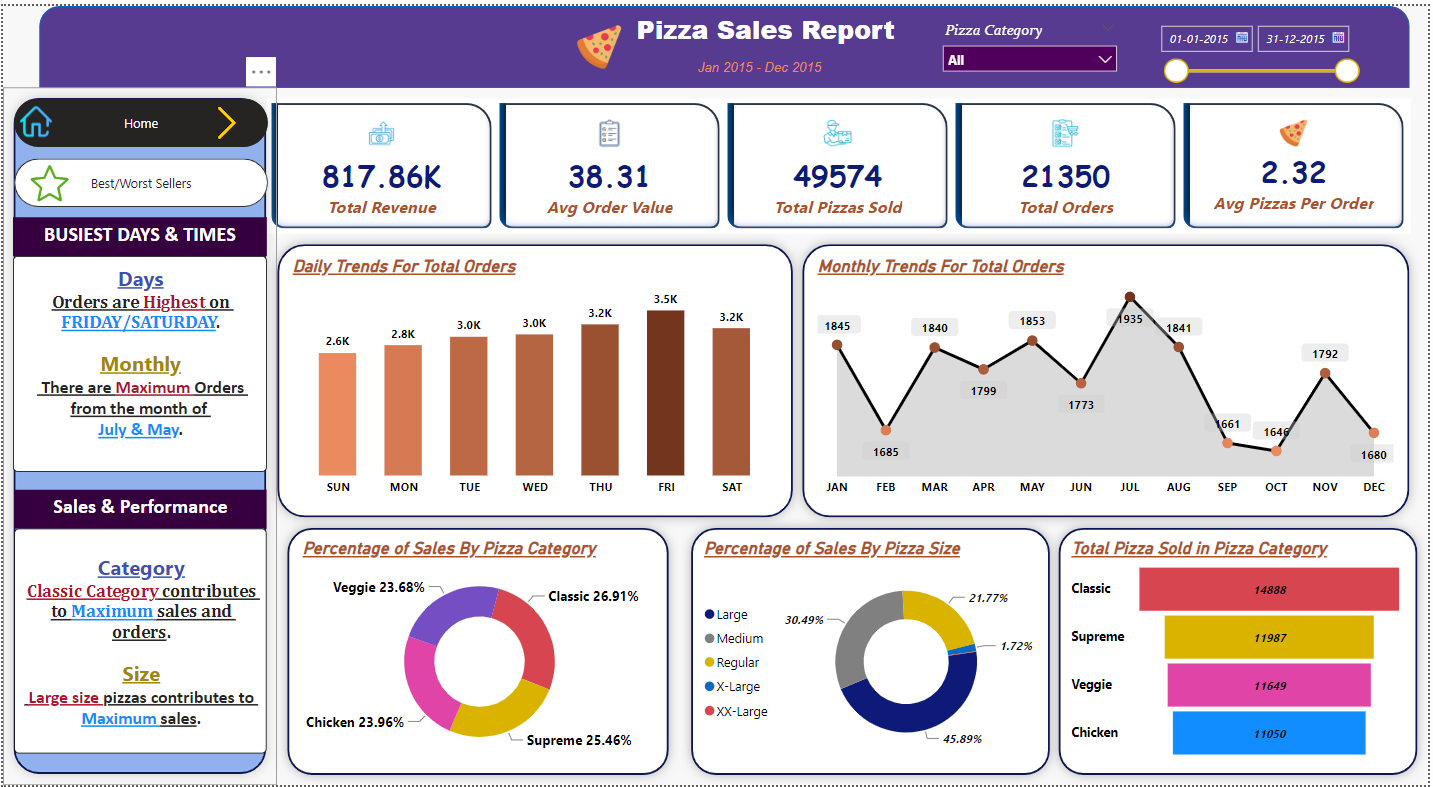

This screenshot's page, from the dashboard's own definition file:
{"tool":"powerbi","page":{"name":"Home","canvas":[1500,820],"ordinal":0},"visuals":[{"type":"cardVisual","fields":{"Data":["pizza_sales (1).Total Revenue","pizza_sales (1).Avg Order Value","pizza_sales (1).Total Pizzas Sold","pizza_sales (1).Total Orders","pizza_sales (1).Avg Pizzas Per Order"]},"box":[277.5,97.5,1203.8,142.5],"z":0},{"type":"shape","box":[38.8,0,1442.5,86.2],"z":1000},{"type":"textbox","box":[656.2,0,292.5,50],"z":2000},{"type":"textbox","box":[726.2,50,156.2,31.2],"z":3000},{"type":"image","box":[598.8,0,57.5,86.2],"z":4000},{"type":"shape","box":[277.5,240,565,310],"z":5000},{"type":"columnChart","title":"Daily Trends For Total Orders","fields":{"Category":["pizza_sales (1).Order Day"],"Y":["pizza_sales (1).Total Orders"]},"box":[300,263.8,521.2,261.2],"z":6000},{"type":"shape","box":[830,240,661.2,310],"z":7000},{"type":"areaChart","title":"Monthly Trends For Total Orders","fields":{"Category":["pizza_sales (1).Month"],"Y":["pizza_sales (1).Total Orders"]},"box":[852.5,263.8,616.2,261.2],"z":8000},{"type":"shape","box":[288.8,537.5,423.8,282.5],"z":9000},{"type":"donutChart","title":"Percentage of Sales By Pizza Category ","fields":{"Category":["pizza_sales (1).pizza_category"],"Y":["Sum(pizza_sales (1).total_price)"]},"box":[310,560,382.5,238.8],"z":10000},{"type":"shape","box":[712.5,537.5,400,282.5],"z":11000},{"type":"shape","box":[1100,537.5,400,282.5],"z":12000},{"type":"donutChart","title":"Percentage of Sales By Pizza Size","fields":{"Y":["Sum(pizza_sales (1).total_price)"],"Category":["pizza_sales (1).pizza_size"]},"box":[732.5,560,360,238.8],"z":13000},{"type":"funnel","title":"Total Pizza Sold in Pizza Category","fields":{"Category":["pizza_sales (1).pizza_category"],"Y":["Sum(pizza_sales (1).quantity)"]},"box":[1120,561.2,360,237.6],"z":14000},{"type":"shape","box":[0,85.9,288.2,734.1],"z":15000},{"type":"textbox","box":[10.6,222.4,267.1,41.2],"z":16000},{"type":"textbox","box":[11.8,550.6,265.9,236.5],"z":17000},{"type":"textbox","box":[10.6,263.5,267.1,227.1],"z":18000},{"type":"textbox","box":[11.8,509.4,265.9,41.2],"z":19000},{"type":"slicer","fields":{"Values":["pizza_sales (1).order_date"]},"box":[1207.1,10.6,229.4,75.3],"z":20000},{"type":"slicer","fields":{"Values":["pizza_sales (1).pizza_category"]},"box":[979.4,10,203.5,85.9],"z":21000},{"type":"pageNavigator","box":[11.2,97.5,267.5,51.2],"z":22000},{"type":"pageNavigator","box":[11.2,160,267.5,51.2],"z":23000},{"type":"image","box":[212.5,97.5,45,51.2],"z":24000},{"type":"image","box":[12.5,96.2,43.8,51.2],"z":25000},{"type":"image","box":[12.5,161.2,72.5,50],"z":26000}]}

Visuals, with their boxes in screenshot pixels (x1, y1, x2, y2):
cardVisual - pizza_sales (1).Total Revenue x pizza_sales (1).Avg Order Value: Rect(261, 92, 1396, 226)
shape: Rect(37, 0, 1396, 81)
textbox: Rect(618, 0, 894, 47)
textbox: Rect(684, 47, 831, 77)
image: Rect(564, 0, 618, 81)
shape: Rect(261, 226, 794, 518)
"Daily Trends For Total Orders" columnChart: Rect(283, 249, 774, 495)
shape: Rect(782, 226, 1405, 518)
"Monthly Trends For Total Orders" areaChart: Rect(803, 249, 1384, 495)
shape: Rect(272, 506, 671, 773)
"Percentage of Sales By Pizza Category " donutChart: Rect(292, 528, 652, 753)
shape: Rect(671, 506, 1048, 773)
shape: Rect(1036, 506, 1413, 773)
"Percentage of Sales By Pizza Size" donutChart: Rect(690, 528, 1029, 753)
"Total Pizza Sold in Pizza Category" funnel: Rect(1055, 529, 1394, 753)
shape: Rect(0, 81, 272, 773)
textbox: Rect(10, 210, 262, 248)
textbox: Rect(11, 519, 262, 742)
textbox: Rect(10, 248, 262, 462)
textbox: Rect(11, 480, 262, 519)
slicer - pizza_sales (1).order_date: Rect(1137, 10, 1353, 81)
slicer - pizza_sales (1).pizza_category: Rect(923, 9, 1114, 90)
pageNavigator: Rect(11, 92, 263, 140)
pageNavigator: Rect(11, 151, 263, 199)
image: Rect(200, 92, 243, 140)
image: Rect(12, 91, 53, 139)
image: Rect(12, 152, 80, 199)
